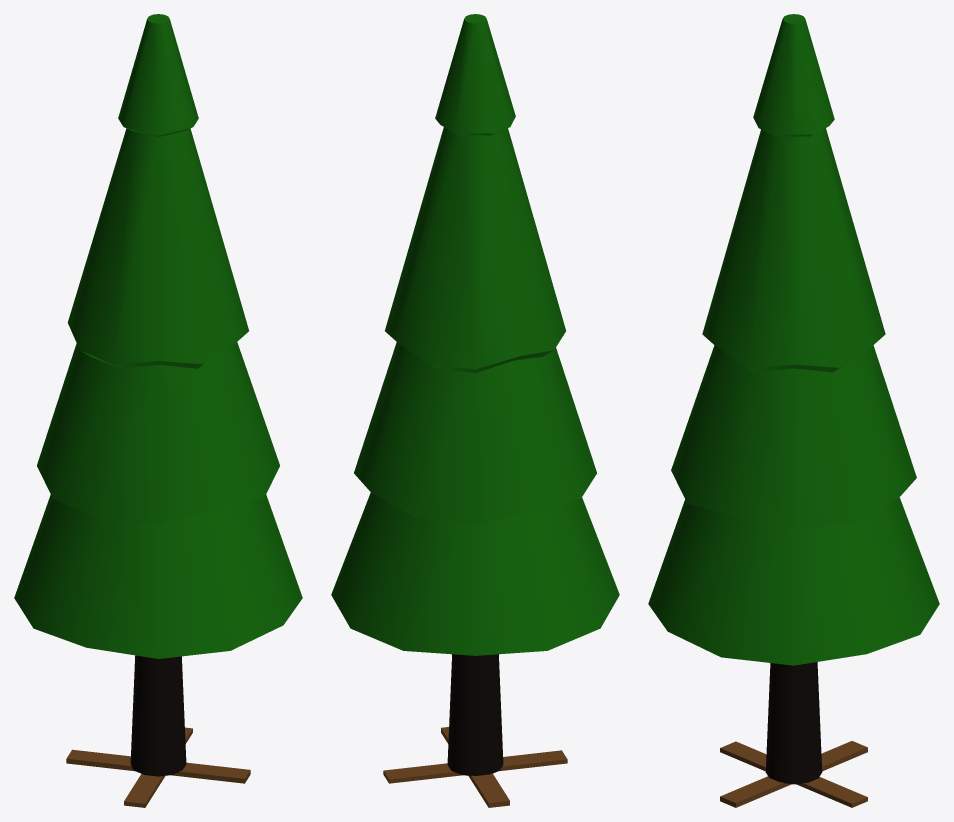
File: ToyTree_a.FBX
3 views of the same model, side by side, from view 1: azimuth 30°, elevation 25°; view 2: azimuth 150°, elevation 25°; view 3: azimuth 270°, elevation 25° (orthographic).
Parts seen in each view (by area): view 1: ToyTree_a; view 2: ToyTree_a; view 3: ToyTree_a.
Boxes of the visible parts, x1=… form: ToyTree_a: x1=14, y1=14, x2=302, y2=807; ToyTree_a: x1=331, y1=14, x2=619, y2=807; ToyTree_a: x1=648, y1=14, x2=939, y2=807.
Size of what is drawn, in the model's own units: 10.21 by 10.21 by 29.29.
